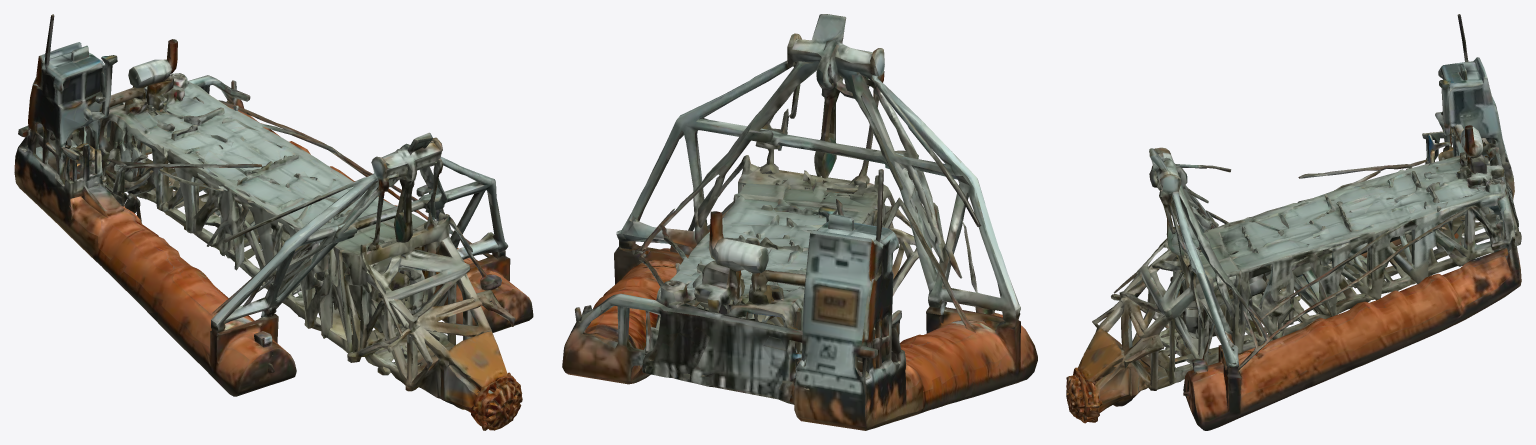
Rendered from river-gravel-v5.glb.
The picture shows the model from 3 angles, left to right: view 1: azimuth 30°, elevation 25°; view 2: azimuth 150°, elevation 25°; view 3: azimuth 270°, elevation 25°; orthographic projection. The views are drawn at different scales.
Visible parts, largest first — view 1: geometry_0; view 2: geometry_0; view 3: geometry_0.
Part boxes in pixels (x1=…): geometry_0: x1=14, y1=14, x2=533, y2=430; geometry_0: x1=562, y1=14, x2=1037, y2=430; geometry_0: x1=1066, y1=14, x2=1521, y2=430.
Size of the model in its own units: 24.96 by 21.75 by 30.14.
Materials: 1 (1 with a texture image).
